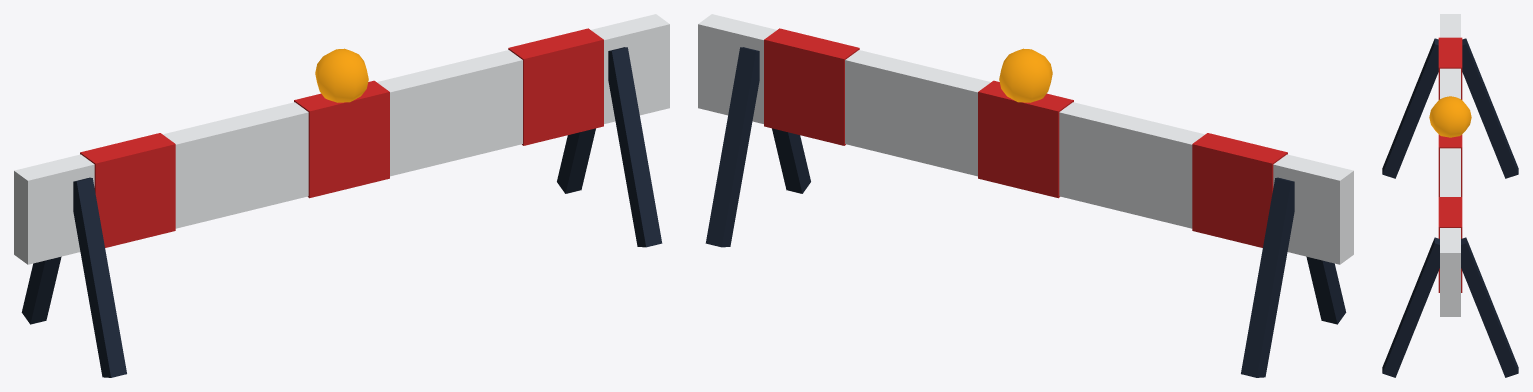
File: police_roadblock.glb
The picture shows the model from 3 angles, left to right: view 1: azimuth 30°, elevation 25°; view 2: azimuth 150°, elevation 25°; view 3: azimuth 270°, elevation 25°; orthographic projection. The views are drawn at different scales.
Visible parts, largest first — view 1: PoliceRoadblock; view 2: PoliceRoadblock; view 3: PoliceRoadblock.
Part boxes in pixels (left/top/right/bottom): PoliceRoadblock: left=14, top=14, right=669, bottom=377; PoliceRoadblock: left=698, top=14, right=1353, bottom=377; PoliceRoadblock: left=1382, top=14, right=1518, bottom=377.
Bounding box in the file's own units: 4.8 × 1.66 × 1.16.
